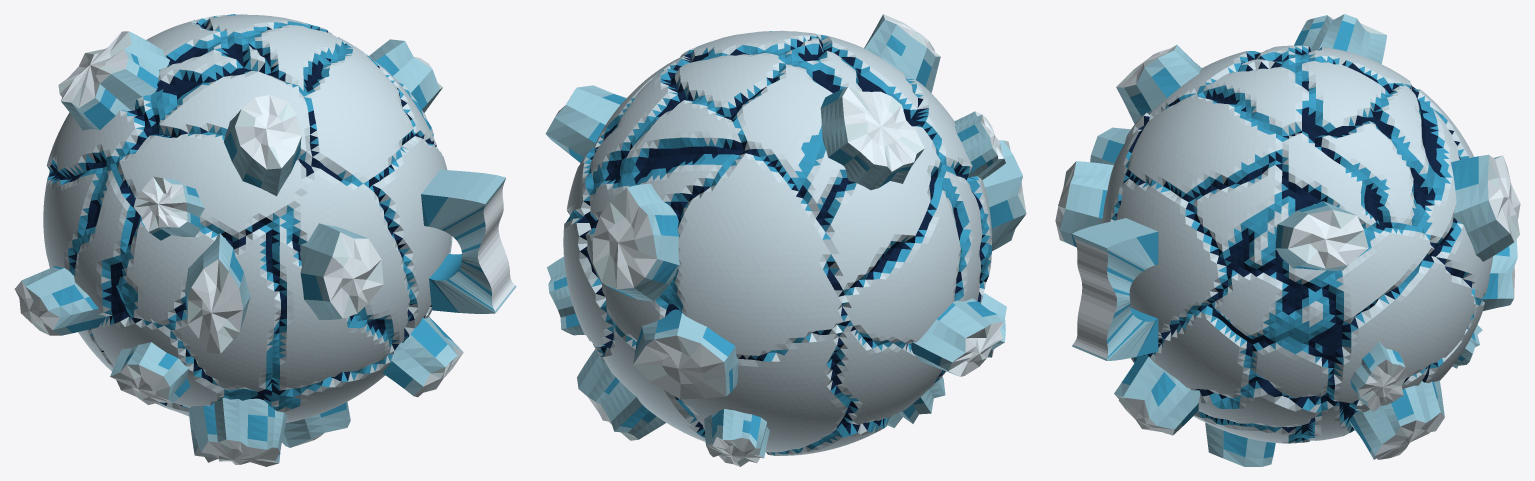
The model's file is nacar_lod.obj.
3 views of the same model, side by side, from view 1: azimuth 30°, elevation 25°; view 2: azimuth 150°, elevation 25°; view 3: azimuth 270°, elevation 25° (orthographic). The views are drawn at different scales.
Visible parts, largest first — view 1: Nacar_|_oceano_congelado_y_placas, Nacar_|_arco_glaciar_y_cueva_azul, Nacar_|_glaciar_erosionado_05, Nacar_|_glaciar_erosionado_07, Nacar_|_glaciar_erosionado_13, Nacar_|_glaciar_erosionado_01, Nacar_|_glaciar_erosionado_14, Nacar_|_glaciar_erosionado_08, Nacar_|_glaciar_erosionado_12, Nacar_|_glaciar_erosionado_16, Nacar_|_glaciar_erosionado_02, Nacar_|_glaciar_erosionado_09 (+1 smaller); view 2: Nacar_|_oceano_congelado_y_placas, Nacar_|_glaciar_erosionado_10, Nacar_|_glaciar_erosionado_05, Nacar_|_glaciar_erosionado_15, Nacar_|_glaciar_erosionado_08, Nacar_|_glaciar_erosionado_04, Nacar_|_glaciar_erosionado_09, Nacar_|_glaciar_erosionado_13, Nacar_|_glaciar_erosionado_03, Nacar_|_glaciar_erosionado_14, Nacar_|_glaciar_erosionado_02, Nacar_|_glaciar_erosionado_06 (+2 smaller); view 3: Nacar_|_oceano_congelado_y_placas, Nacar_|_arco_glaciar_y_cueva_azul, Nacar_|_glaciar_erosionado_10, Nacar_|_glaciar_erosionado_09, Nacar_|_glaciar_erosionado_04, Nacar_|_glaciar_erosionado_12, Nacar_|_glaciar_erosionado_13, Nacar_|_glaciar_erosionado_07, Nacar_|_glaciar_erosionado_05, Nacar_|_glaciar_erosionado_06, Nacar_|_glaciar_erosionado_11, Nacar_|_glaciar_erosionado_15 (+1 smaller).
Part boxes in pixels (box(x1,y1,x2,y2)): Nacar_|_oceano_congelado_y_placas: box(43, 14, 452, 422); Nacar_|_arco_glaciar_y_cueva_azul: box(421, 169, 516, 313); Nacar_|_glaciar_erosionado_05: box(58, 31, 169, 130); Nacar_|_glaciar_erosionado_07: box(299, 223, 383, 319); Nacar_|_glaciar_erosionado_13: box(224, 95, 301, 196); Nacar_|_glaciar_erosionado_01: box(188, 397, 287, 466); Nacar_|_glaciar_erosionado_14: box(185, 233, 250, 353); Nacar_|_glaciar_erosionado_08: box(14, 266, 104, 335); Nacar_|_glaciar_erosionado_12: box(382, 316, 463, 397); Nacar_|_glaciar_erosionado_16: box(110, 342, 190, 404); Nacar_|_glaciar_erosionado_02: box(133, 176, 204, 240); Nacar_|_glaciar_erosionado_09: box(369, 39, 442, 112); Nacar_|_oceano_congelado_y_placas: box(563, 30, 991, 455); Nacar_|_glaciar_erosionado_10: box(592, 183, 679, 301); Nacar_|_glaciar_erosionado_05: box(820, 87, 924, 190); Nacar_|_glaciar_erosionado_15: box(633, 309, 738, 399); Nacar_|_glaciar_erosionado_08: box(911, 298, 1003, 376); Nacar_|_glaciar_erosionado_04: box(577, 349, 665, 440); Nacar_|_glaciar_erosionado_09: box(545, 85, 626, 162); Nacar_|_glaciar_erosionado_13: box(864, 14, 940, 92); Nacar_|_glaciar_erosionado_03: box(704, 409, 769, 466); Nacar_|_glaciar_erosionado_14: box(983, 140, 1026, 251); Nacar_|_glaciar_erosionado_02: box(954, 111, 1005, 179); Nacar_|_glaciar_erosionado_06: box(547, 256, 584, 335); Nacar_|_oceano_congelado_y_placas: box(1101, 45, 1492, 443); Nacar_|_arco_glaciar_y_cueva_azul: box(1072, 218, 1158, 360); Nacar_|_glaciar_erosionado_10: box(1451, 154, 1520, 261); Nacar_|_glaciar_erosionado_09: box(1275, 201, 1368, 270); Nacar_|_glaciar_erosionado_04: box(1349, 380, 1444, 459); Nacar_|_glaciar_erosionado_12: box(1114, 354, 1200, 435); Nacar_|_glaciar_erosionado_13: box(1116, 45, 1201, 123); Nacar_|_glaciar_erosionado_07: box(1055, 161, 1113, 247); Nacar_|_glaciar_erosionado_05: box(1294, 14, 1387, 63); Nacar_|_glaciar_erosionado_06: box(1350, 341, 1406, 411); Nacar_|_glaciar_erosionado_11: box(1205, 422, 1275, 466); Nacar_|_glaciar_erosionado_15: box(1482, 239, 1517, 310).
Bounding box in the file's own units: 2.32 × 2.15 × 2.34.
